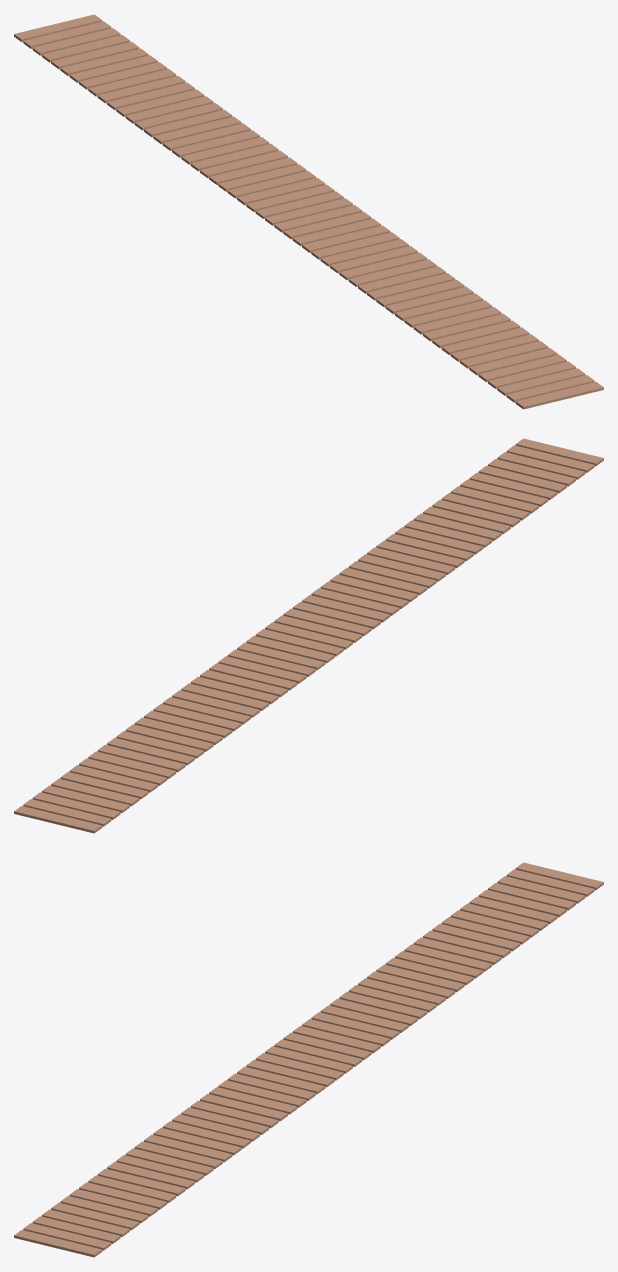
The model's file is PlankBridge_2.obj.
The picture shows the model from 3 angles, top to bottom: view 1: azimuth 30°, elevation 25°; view 2: azimuth 150°, elevation 25°; view 3: azimuth 330°, elevation 25°; orthographic projection.
Size of the model in its own units: 1 by 0.03 by 10.96.
